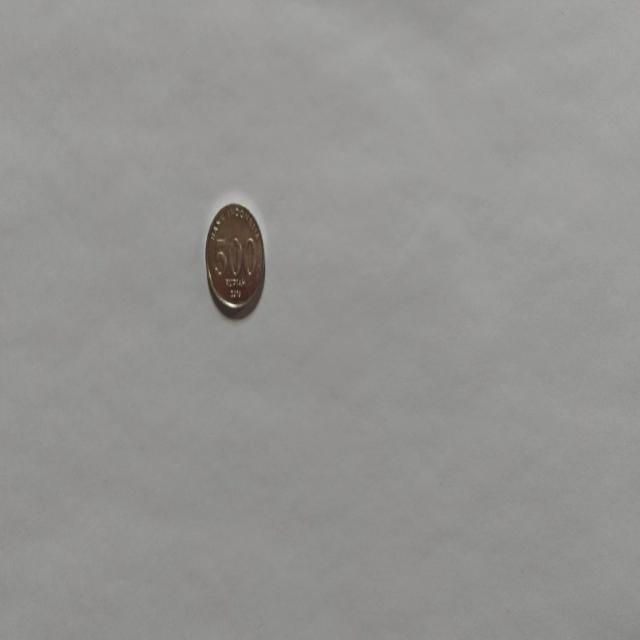lima ratus rupiah: (204, 200, 266, 318)
